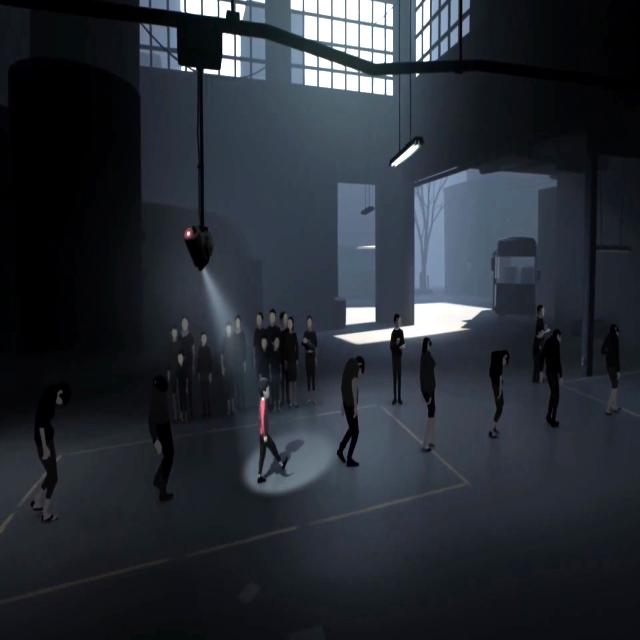boy: (257, 379, 286, 483)
human: (389, 312, 405, 406), (223, 318, 238, 416), (196, 332, 212, 421), (302, 313, 316, 406), (285, 317, 299, 407), (169, 324, 181, 426), (271, 334, 284, 410), (253, 312, 266, 383), (534, 303, 547, 332), (266, 309, 280, 335)
zombie: (34, 381, 68, 522), (147, 373, 177, 502), (338, 356, 366, 467), (418, 339, 438, 454), (542, 331, 564, 426), (488, 349, 509, 437), (603, 324, 621, 416)
